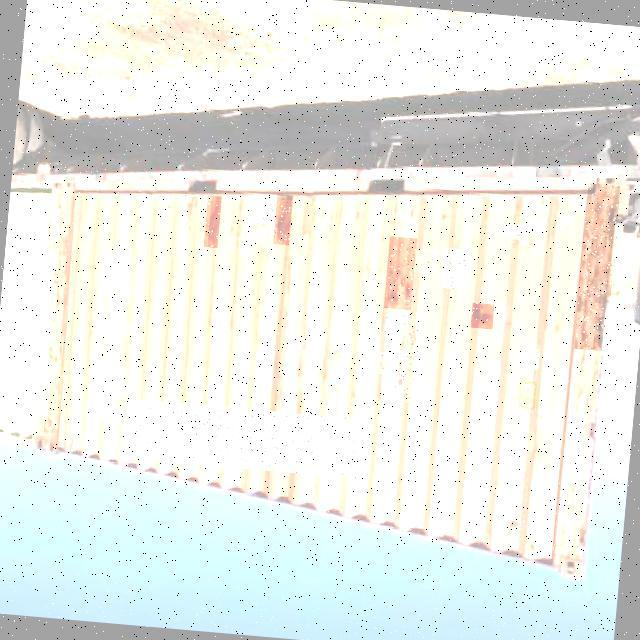Rust: (134, 400, 363, 478), (574, 183, 622, 351), (393, 311, 421, 402), (384, 236, 417, 310), (441, 248, 472, 290), (273, 194, 293, 245), (203, 195, 221, 248), (181, 193, 202, 235), (413, 248, 439, 273), (470, 302, 494, 329), (254, 194, 274, 223), (376, 351, 390, 374), (384, 314, 398, 337)
